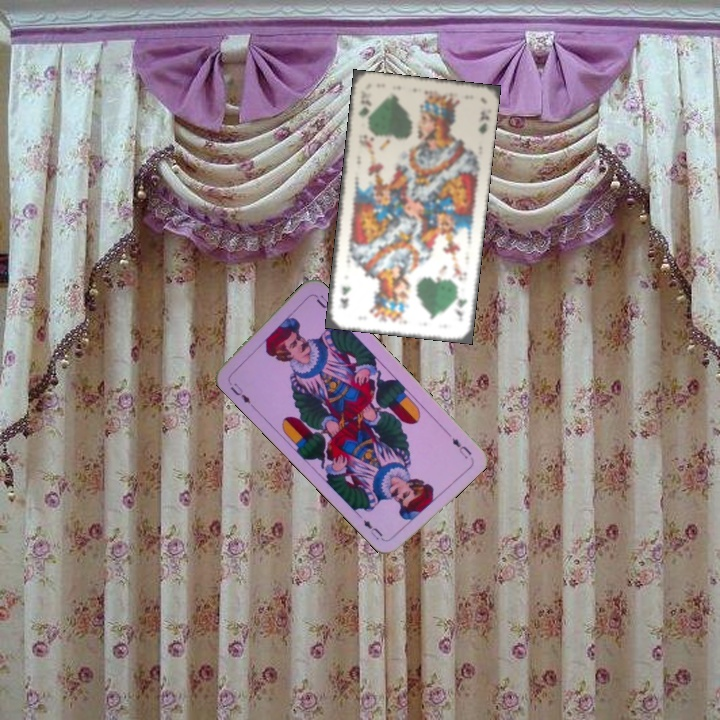EU: (224, 375, 255, 409), (448, 434, 474, 462)
GK: (451, 285, 469, 324), (354, 102, 372, 127)
